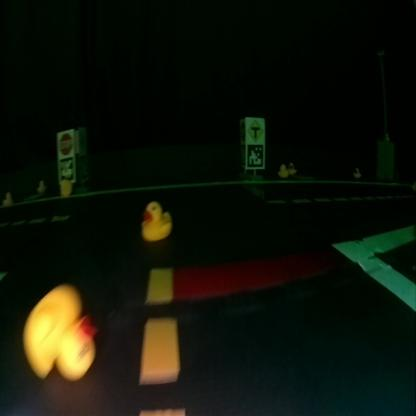Duckie: (24, 286, 92, 379), (141, 202, 172, 240), (59, 179, 72, 195), (1, 192, 12, 204), (278, 164, 287, 177), (289, 161, 295, 174), (37, 179, 43, 190), (353, 168, 359, 177)
Intersection sign: (248, 118, 264, 140)
QR code: (58, 158, 74, 180), (246, 145, 262, 166)
Stop sign: (58, 132, 73, 154)
